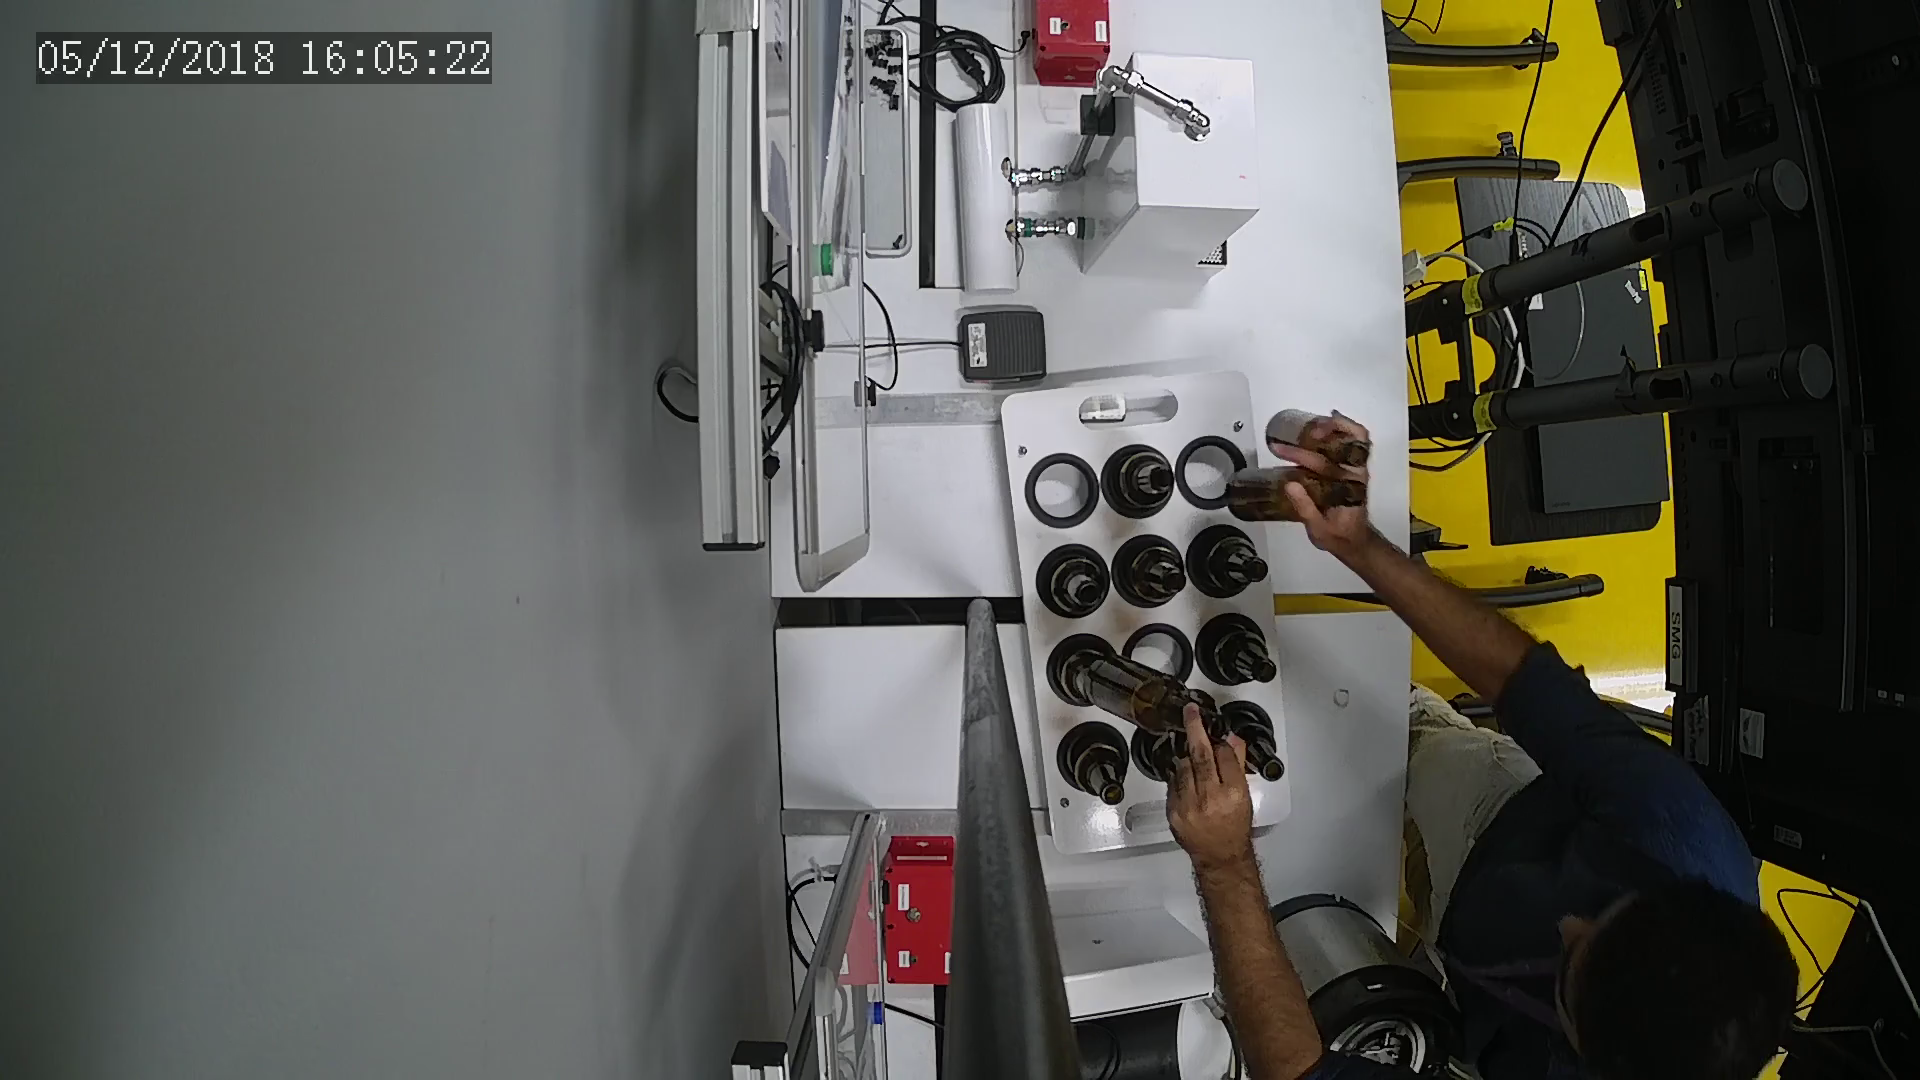filled_bottle: (1197, 620, 1279, 694), (1197, 527, 1276, 599), (1101, 447, 1174, 518), (1117, 531, 1185, 607), (1036, 549, 1108, 620), (1064, 731, 1126, 811), (1222, 707, 1280, 789)
trolley: (997, 367, 1298, 849)
